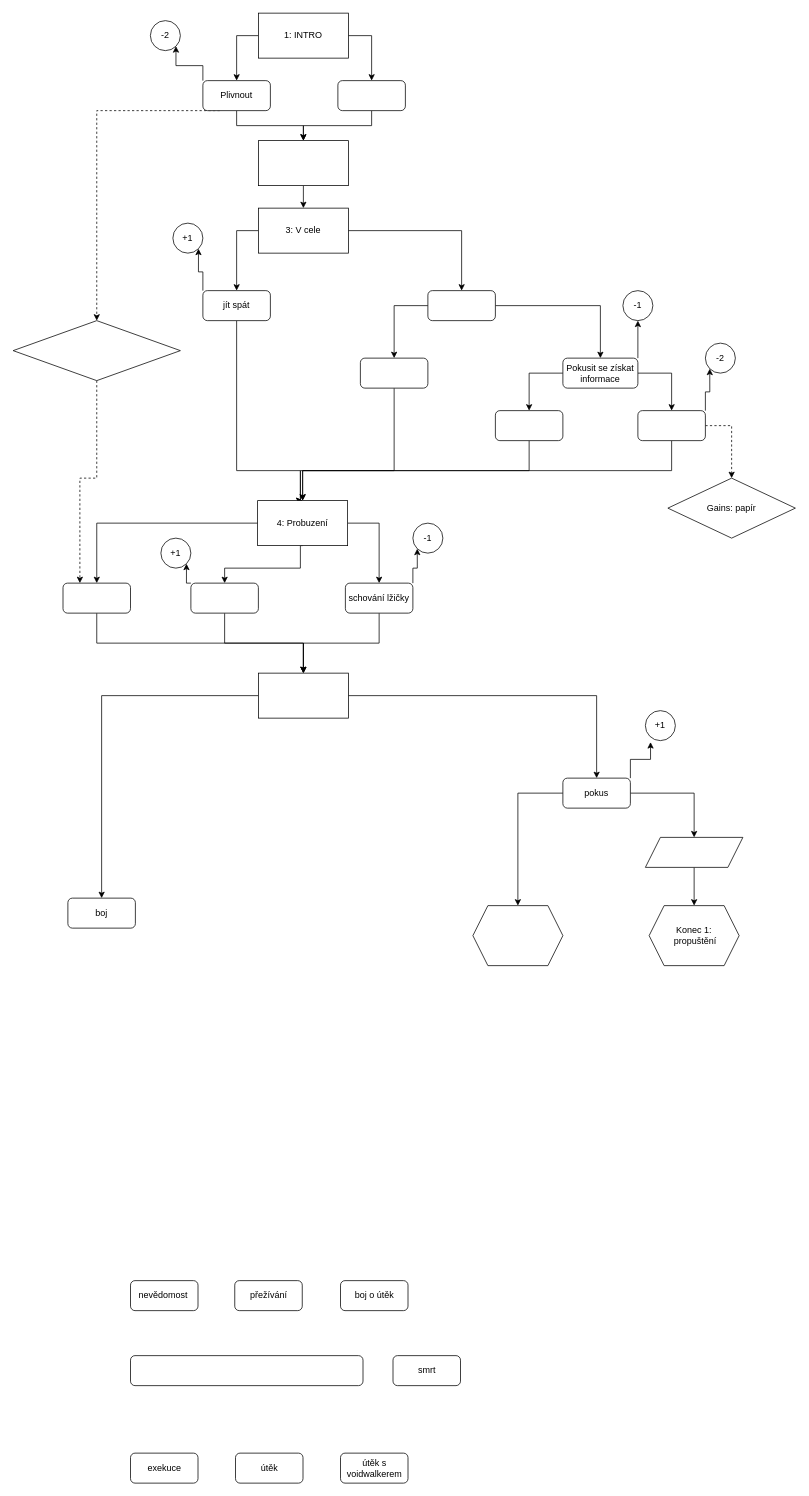
The diagram is 809 pixels wide and 1496 high, and some of its shapes have lost their labels. The shapes that lost their labels are listed below. From the top down, each one's box as (x1, y1, x2, y2) in pixels, then its label:
(337, 80, 405, 111): Neplivnout
(258, 140, 348, 186): 2: Cesta k cele
(427, 290, 495, 321): Zůstat vzhůru
(12, 320, 180, 381): Následek: ztráta lžičky ve 4té scéně
(360, 357, 428, 388): Předstírat spánek
(495, 410, 563, 441): nekrást
(637, 410, 705, 441): krást
(62, 582, 130, 613): Pokračvání bez lžičky
(190, 582, 258, 613): vrácení lžičky
(258, 672, 348, 718): 5: pokus
(645, 837, 743, 867): body: 8
(472, 905, 563, 966): Konec 2: Exekuce
(130, 1355, 363, 1386): voidwalker
